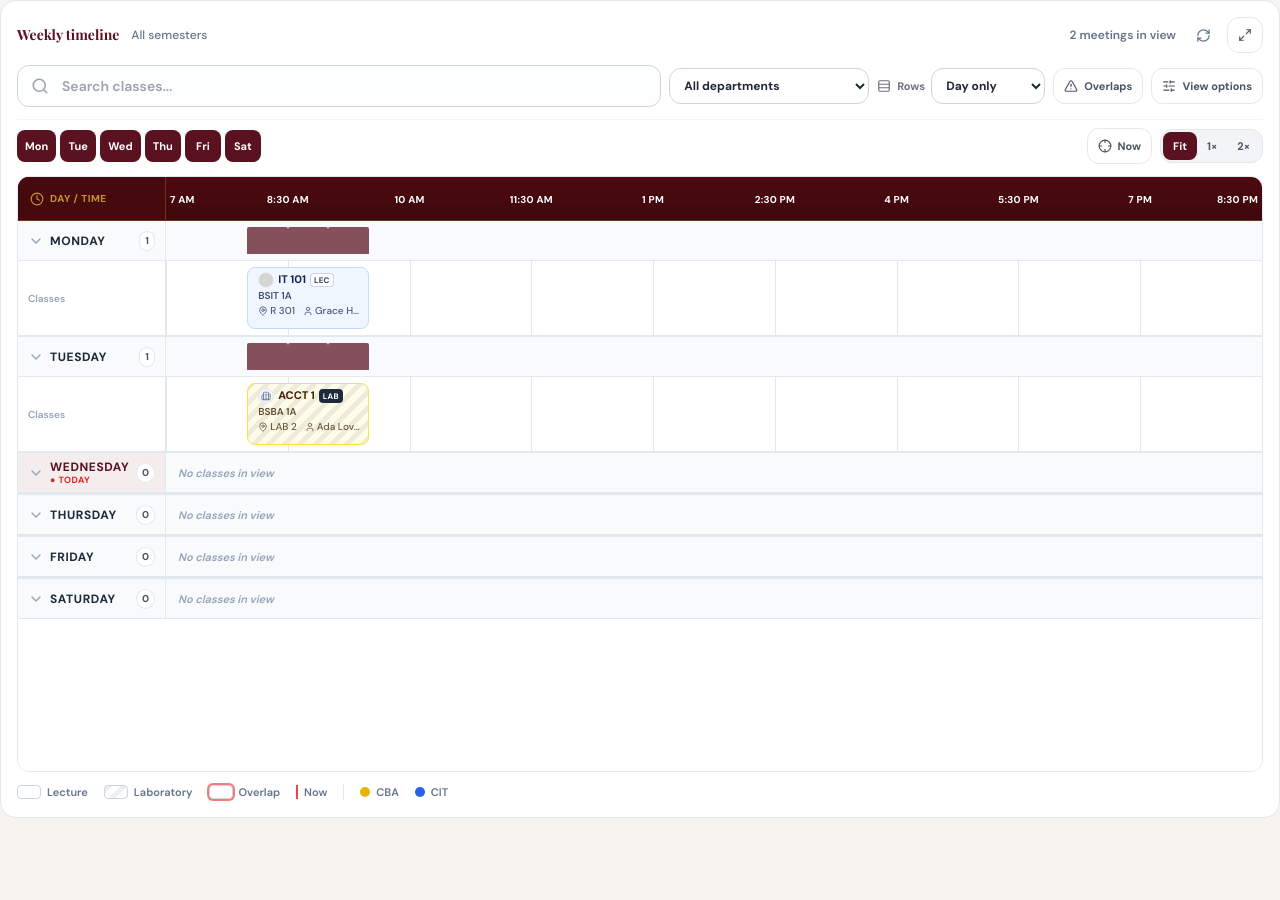
it: VpaaCalendarPage Gantt timeline › groups rows by room when asked
Select "Room" in the dropdown labelled "Rows": coordinates (988, 86) [931,68,1045,104]
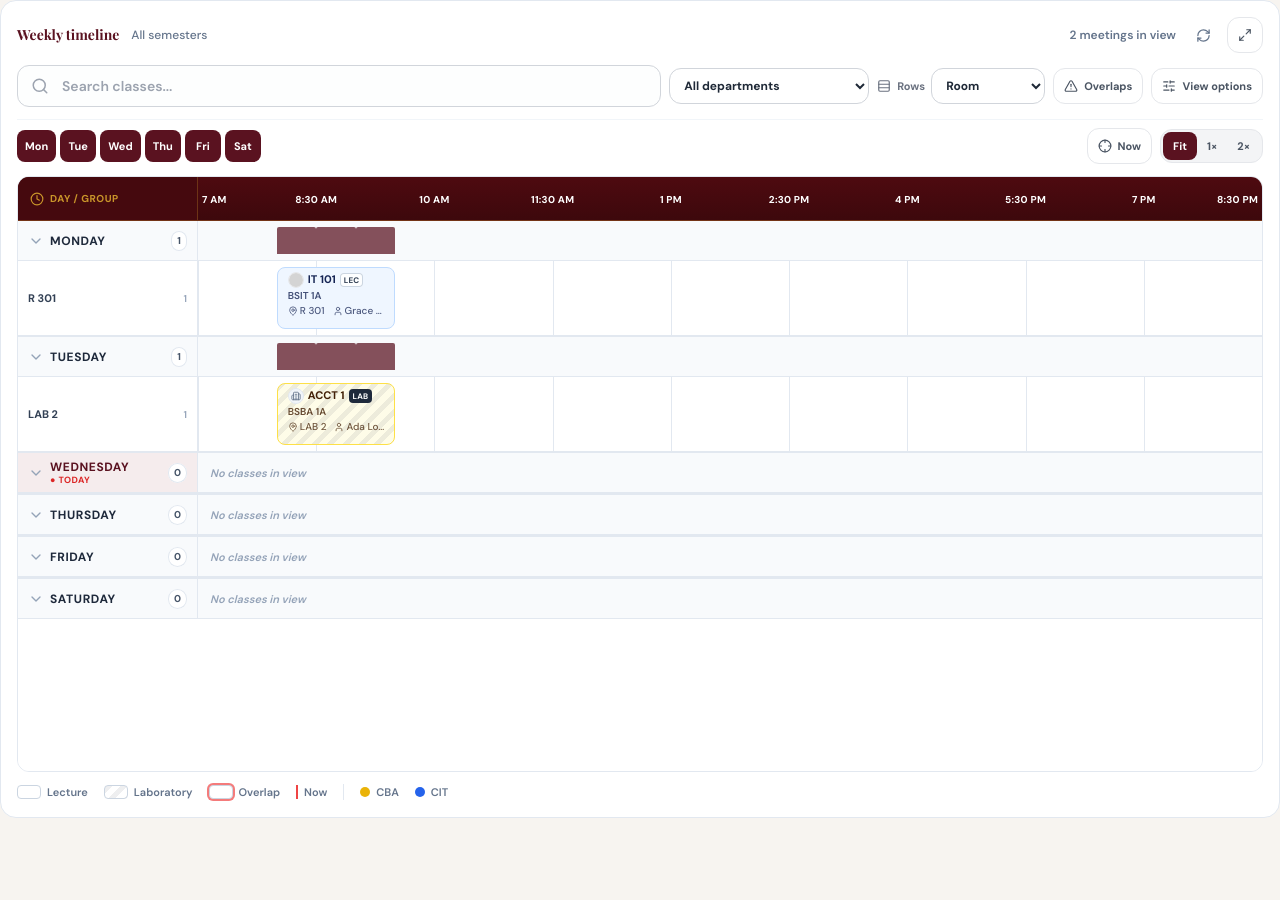
Now the text titled "R 301" is shown, box [28,290,56,306]
Now the text titled "LAB 2" is shown, box [28,406,58,422]
